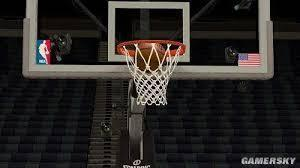ball: (134, 40, 168, 74)
rim: (117, 40, 184, 106)
